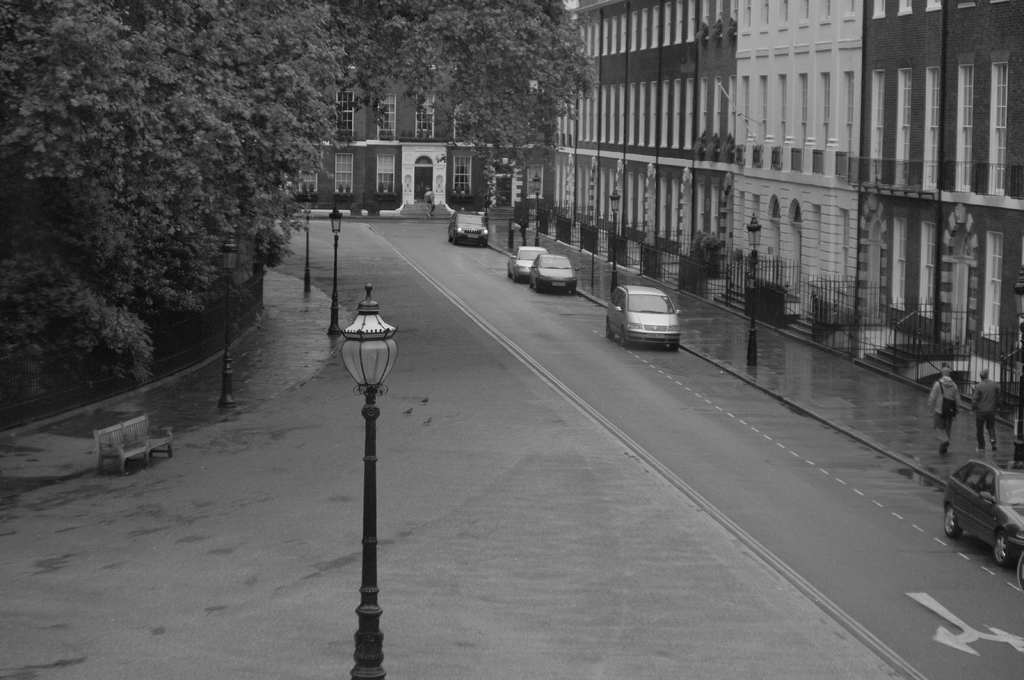Tree: (0, 0, 597, 398)
